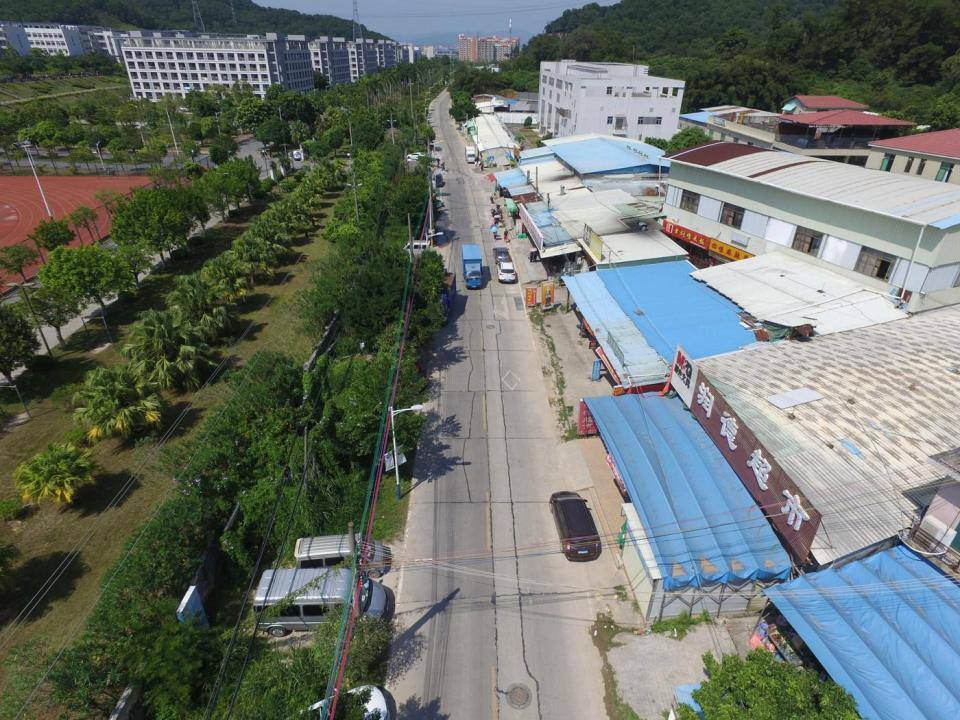car: (287, 684, 390, 720), (548, 491, 598, 562), (425, 273, 456, 324), (461, 244, 484, 289), (400, 364, 429, 396), (496, 260, 516, 282), (492, 247, 511, 265), (408, 151, 426, 161), (426, 199, 444, 209), (432, 173, 444, 186), (21, 136, 35, 147), (8, 141, 24, 150)
van: (253, 569, 389, 637), (294, 535, 383, 579), (403, 239, 429, 255), (464, 146, 477, 164)
